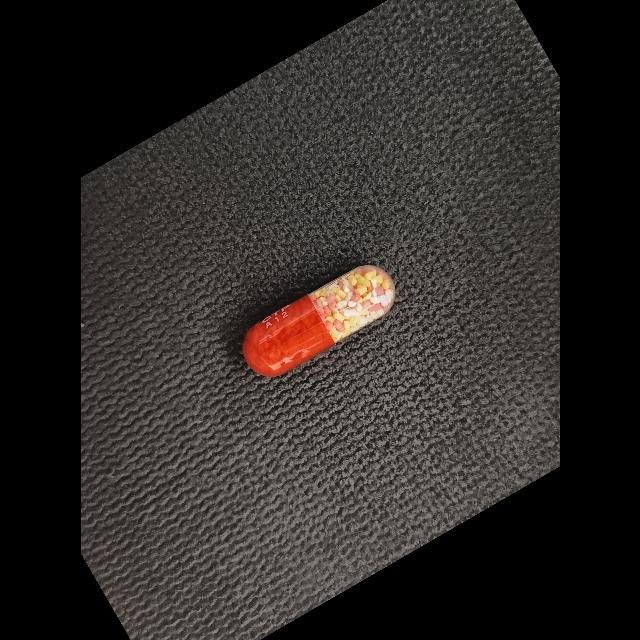Intact Capsule: (242, 266, 394, 376)
